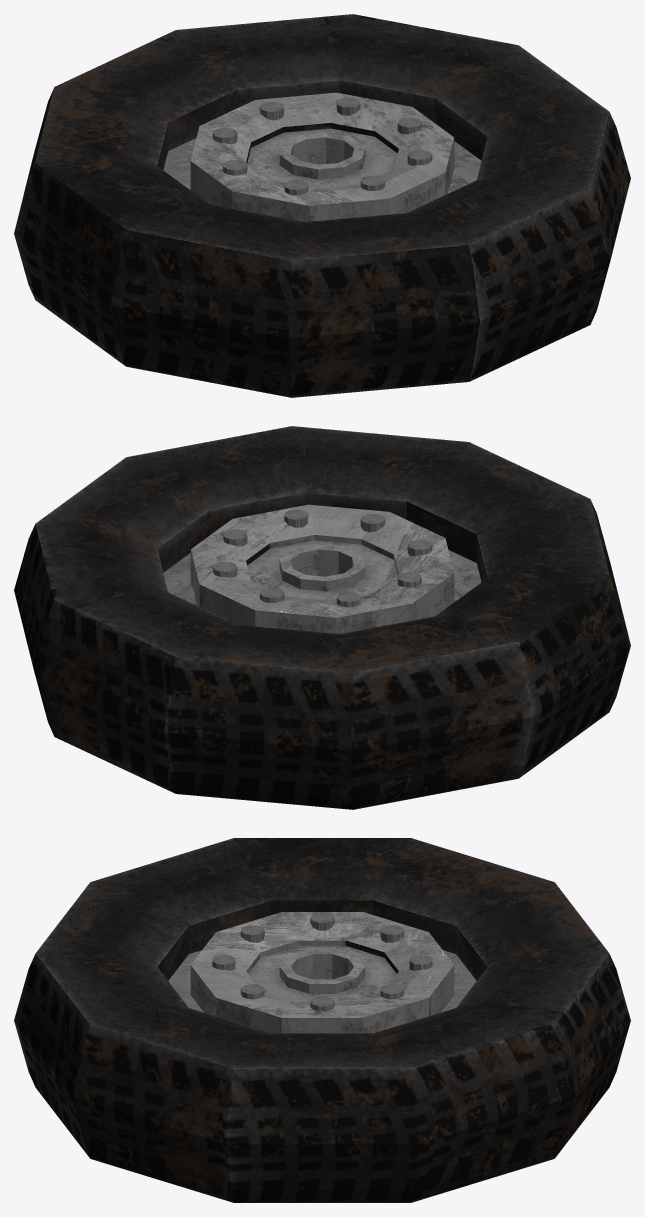
Rendered from tire.fbx.
3 views of the same model, one above another, from view 1: azimuth 30°, elevation 25°; view 2: azimuth 150°, elevation 25°; view 3: azimuth 270°, elevation 25° (orthographic). The views are drawn at different scales.
Visible parts, largest first — view 1: Cylinder; view 2: Cylinder; view 3: Cylinder.
Part boxes in pixels (x1=…): Cylinder: x1=14, y1=14, x2=630, y2=397; Cylinder: x1=14, y1=426, x2=630, y2=809; Cylinder: x1=14, y1=838, x2=630, y2=1202.
Bounding box in the file's own units: 466 × 117 × 490.
Materials: 1 (1 with a texture image).
